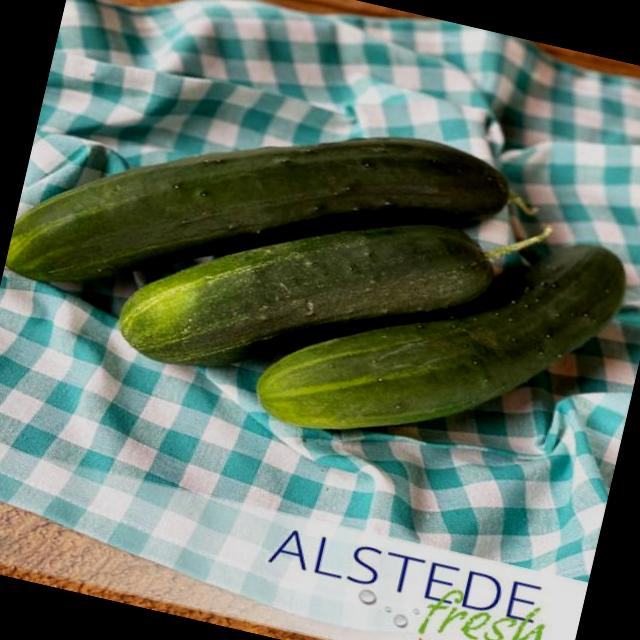Cucumber: (6, 54, 509, 371), (254, 180, 636, 493)
